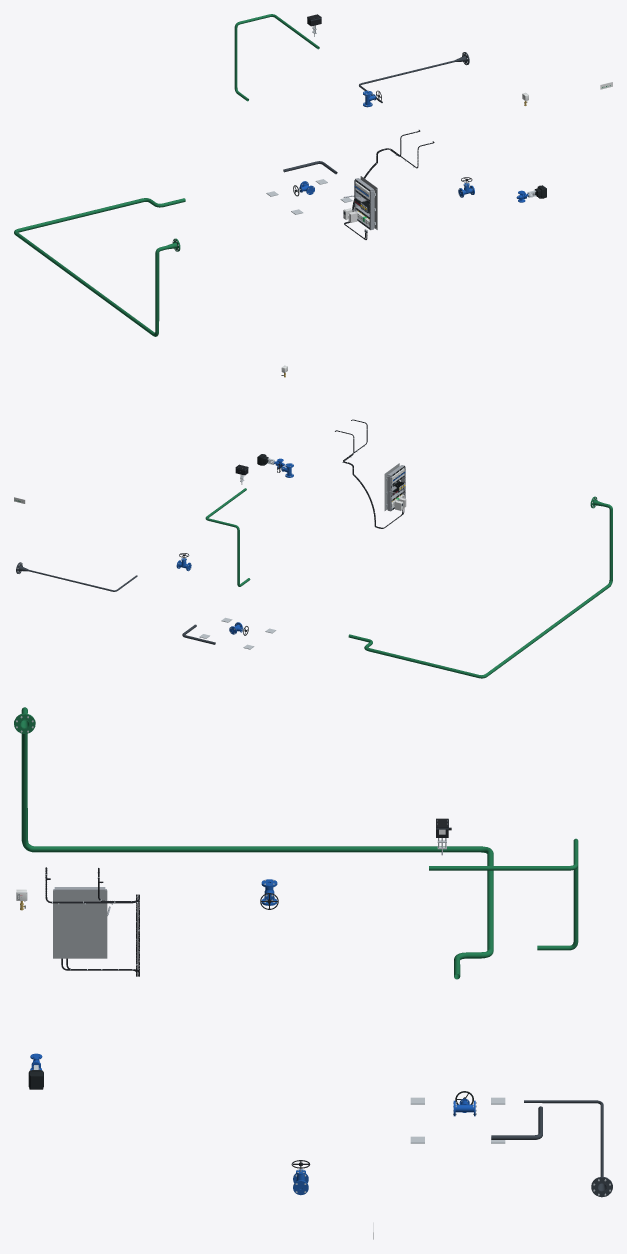
3 views of the same model, one above another, from view 1: azimuth 30°, elevation 25°; view 2: azimuth 150°, elevation 25°; view 3: azimuth 270°, elevation 25° (orthographic). The views are drawn at different scales.
Visible parts, largest first — view 1: deaerator_feed / green, cabinet_interior / cabinet_interior_0.npz, from_economizer / green; view 2: deaerator_feed / green, cabinet_interior / cabinet_interior_0.npz, from_economizer / green; view 3: deaerator_feed / green, cabinet_interior / cabinet_interior_0.npz, from_economizer / green, tds_to_fv / dark.
Boxes of the visible parts, bbox=[...] form: deaerator_feed / green: bbox=[14, 198, 185, 336]; cabinet_interior / cabinet_interior_0.npz: bbox=[343, 176, 377, 230]; from_economizer / green: bbox=[234, 14, 310, 101]; deaerator_feed / green: bbox=[348, 496, 612, 678]; cabinet_interior / cabinet_interior_0.npz: bbox=[384, 463, 405, 511]; from_economizer / green: bbox=[205, 493, 250, 586]; deaerator_feed / green: bbox=[14, 707, 493, 979]; cabinet_interior / cabinet_interior_0.npz: bbox=[53, 887, 110, 958]; from_economizer / green: bbox=[455, 838, 578, 950]; tds_to_fv / dark: bbox=[524, 1100, 612, 1197].
Size of the model in its own units: 9.48 by 2.96 by 5.37.
